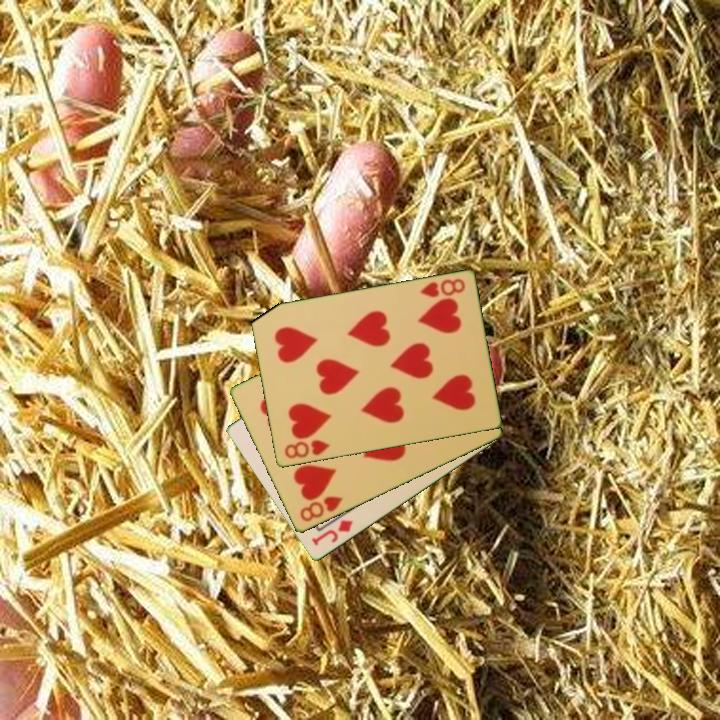8h: (296, 493, 346, 525), (281, 436, 332, 462), (417, 275, 468, 301)
Jd: (308, 517, 356, 549)
